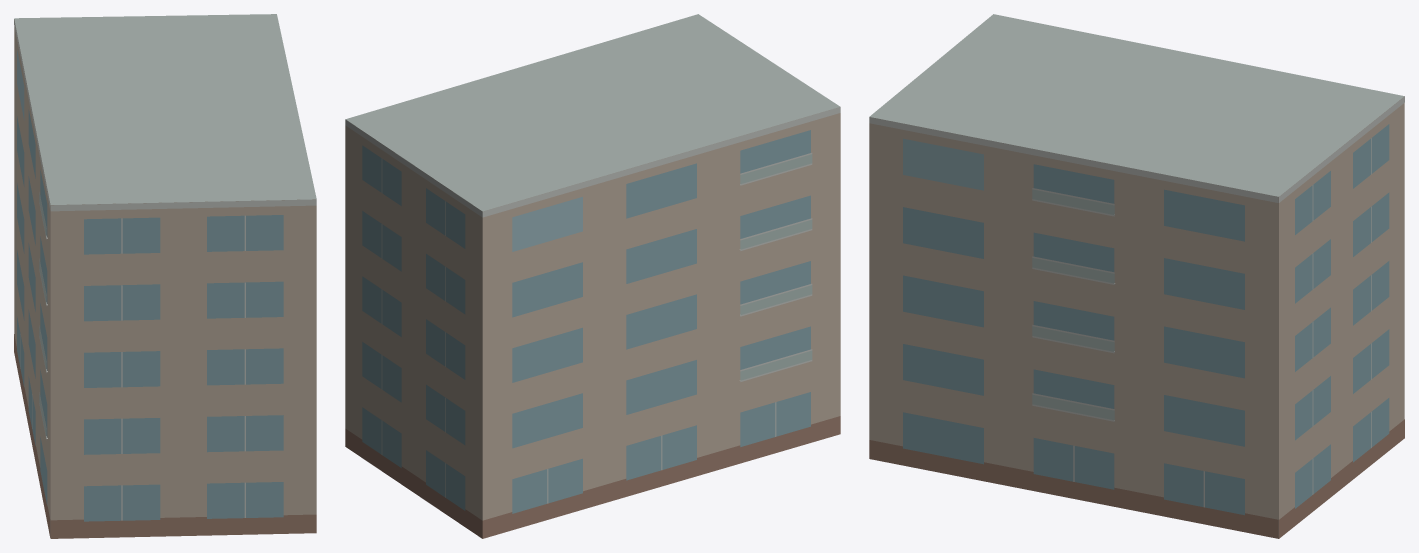
The model's file is survey-upis-32854335.glb.
The picture shows the model from 3 angles, left to right: view 1: azimuth 30°, elevation 25°; view 2: azimuth 150°, elevation 25°; view 3: azimuth 270°, elevation 25°; orthographic projection. The views are drawn at different scales.
Parts seen in each view (by area): view 1: survey-upis-32854335.tmp; view 2: survey-upis-32854335.tmp; view 3: survey-upis-32854335.tmp.
Part boxes in pixels (left/top/right/bottom): survey-upis-32854335.tmp: left=14, top=14, right=316, bottom=538; survey-upis-32854335.tmp: left=345, top=14, right=840, bottom=538; survey-upis-32854335.tmp: left=869, top=14, right=1404, bottom=538.
Size of the model in its own units: 15.03 by 13.1 by 18.6.
